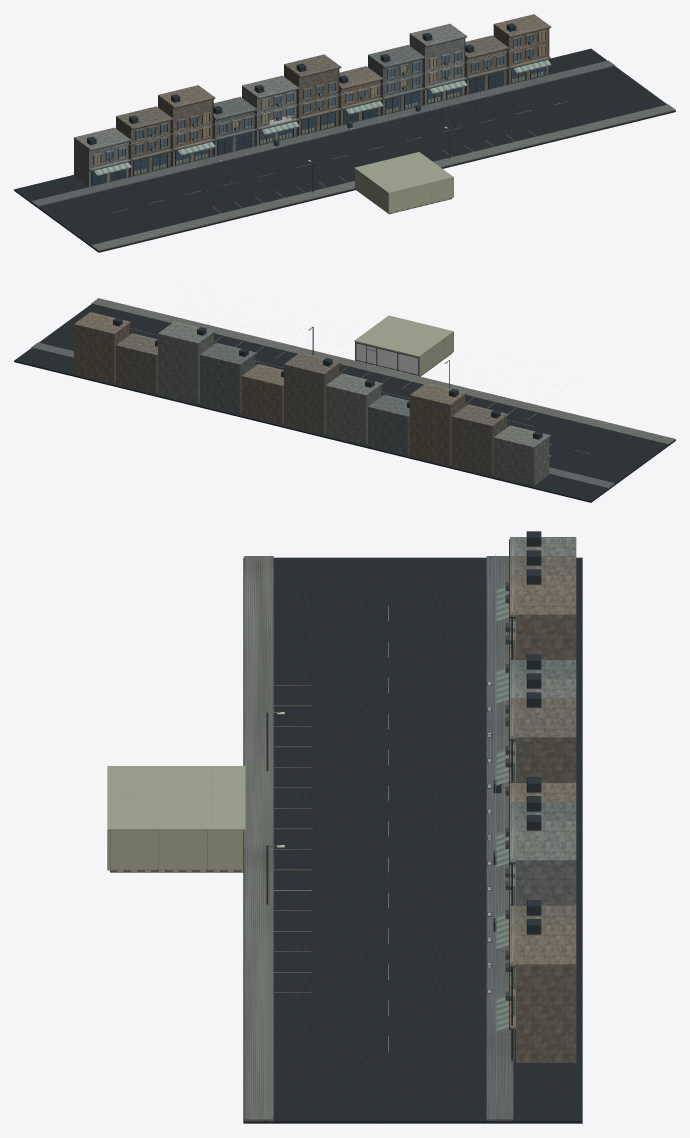
Rendered from night_laundry.glb.
The picture shows the model from 3 angles, top to bottom: view 1: azimuth 30°, elevation 25°; view 2: azimuth 150°, elevation 25°; view 3: azimuth 270°, elevation 25°; orthographic projection. The views are drawn at different scales.
Parts seen in each view (by area): view 1: Road, Concrete, Metal, Enamel, Dark, Mint; view 2: Concrete, Road, Enamel, Metal, WindowGlass; view 3: Road, Concrete, Enamel, Metal, Mint, Dark.
Part boxes in pixels (x1,y1,x2,y2): Road: [14, 48, 675, 252]; Concrete: [31, 14, 675, 251]; Metal: [87, 23, 551, 192]; Enamel: [94, 60, 567, 213]; Dark: [92, 33, 544, 184]; Mint: [95, 32, 551, 175]; Concrete: [31, 298, 675, 488]; Road: [14, 304, 675, 502]; Enamel: [214, 315, 589, 453]; Metal: [91, 312, 551, 457]; WindowGlass: [356, 343, 418, 374]; Road: [243, 557, 582, 1123]; Concrete: [244, 537, 576, 1121]; Enamel: [107, 584, 508, 1051]; Metal: [243, 531, 541, 1060]; Mint: [496, 587, 514, 1032]; Dark: [487, 554, 515, 1057].
Bounding box in the file's own units: 110 × 12.22 × 39.2.
Materials: 16 (5 with a texture image).
